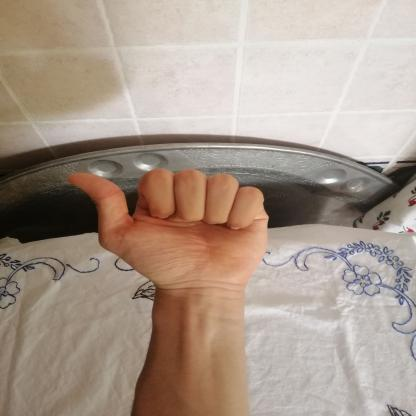DAD: (54, 160, 283, 302)
